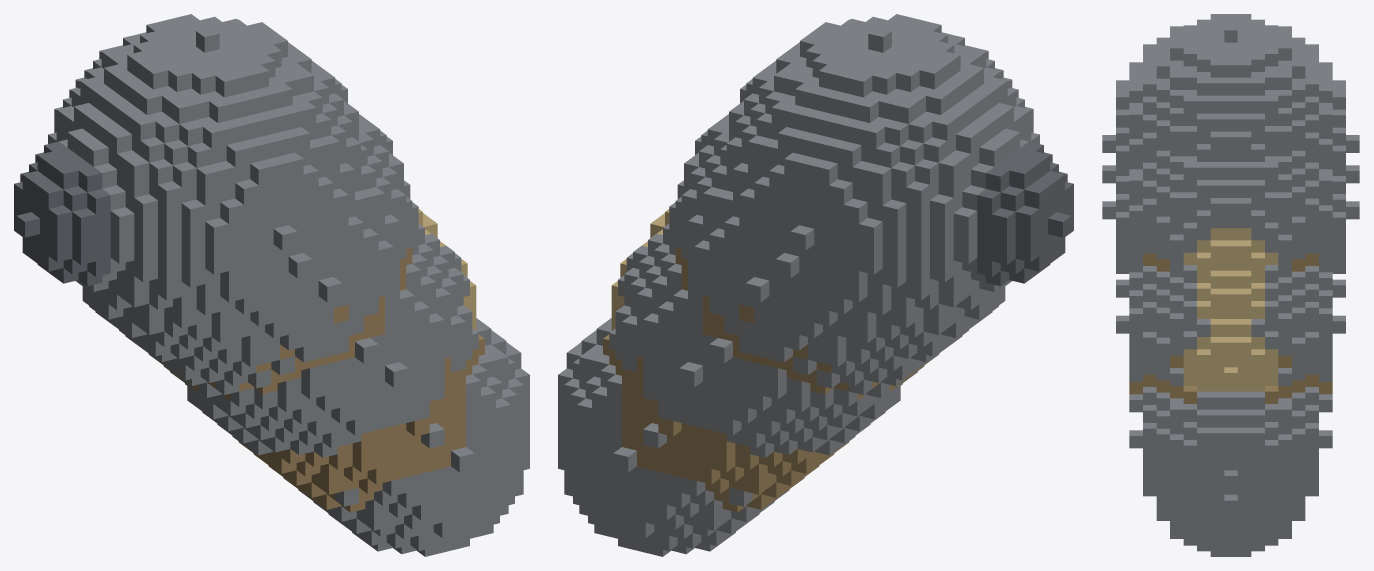
Rendered from rm_thigh.glb.
3 renders of one model, left to right at view 1: azimuth 30°, elevation 25°; view 2: azimuth 150°, elevation 25°; view 3: azimuth 270°, elevation 25°, orthographic. The views are drawn at different scales.
Size of the model in its own units: 33 by 36 by 19.
